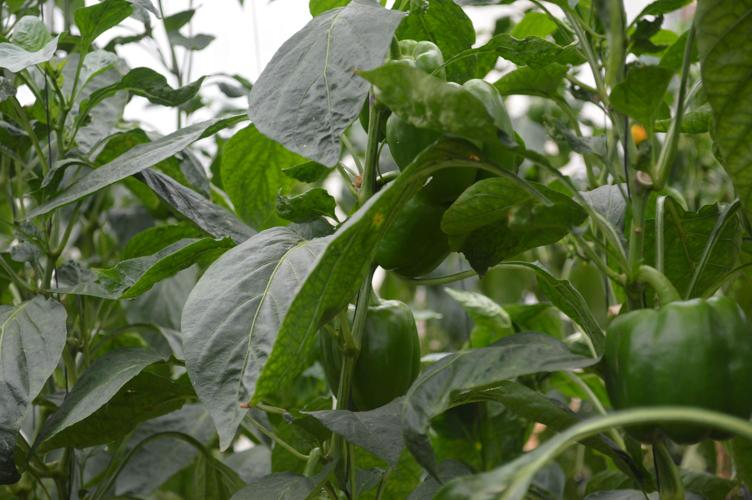BellPepper: (599, 293, 734, 432), (384, 77, 507, 192), (316, 304, 418, 401), (374, 202, 451, 284)
